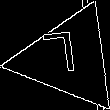L_S: (49, 32, 88, 86)
